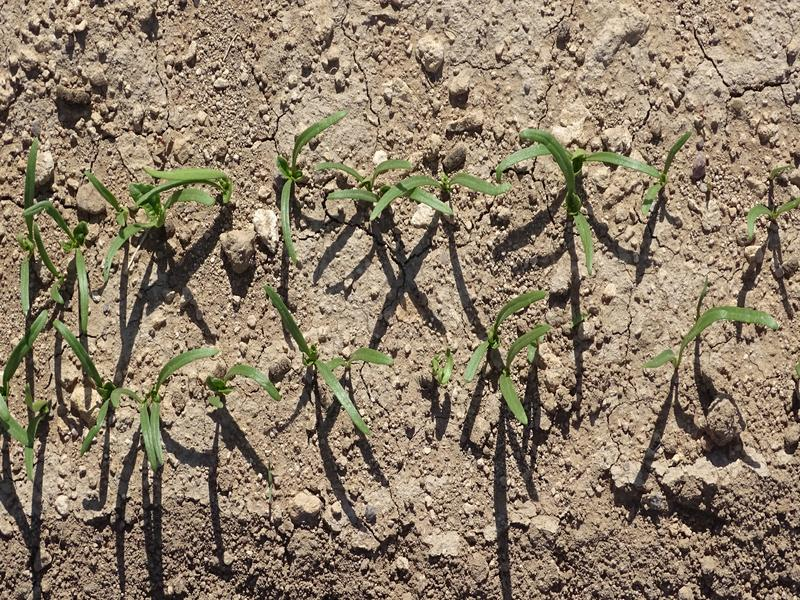Espinaca: (279, 109, 687, 271), (14, 160, 233, 311), (1, 320, 215, 473), (272, 284, 379, 432), (643, 297, 781, 380), (465, 285, 542, 422), (221, 366, 279, 415)
